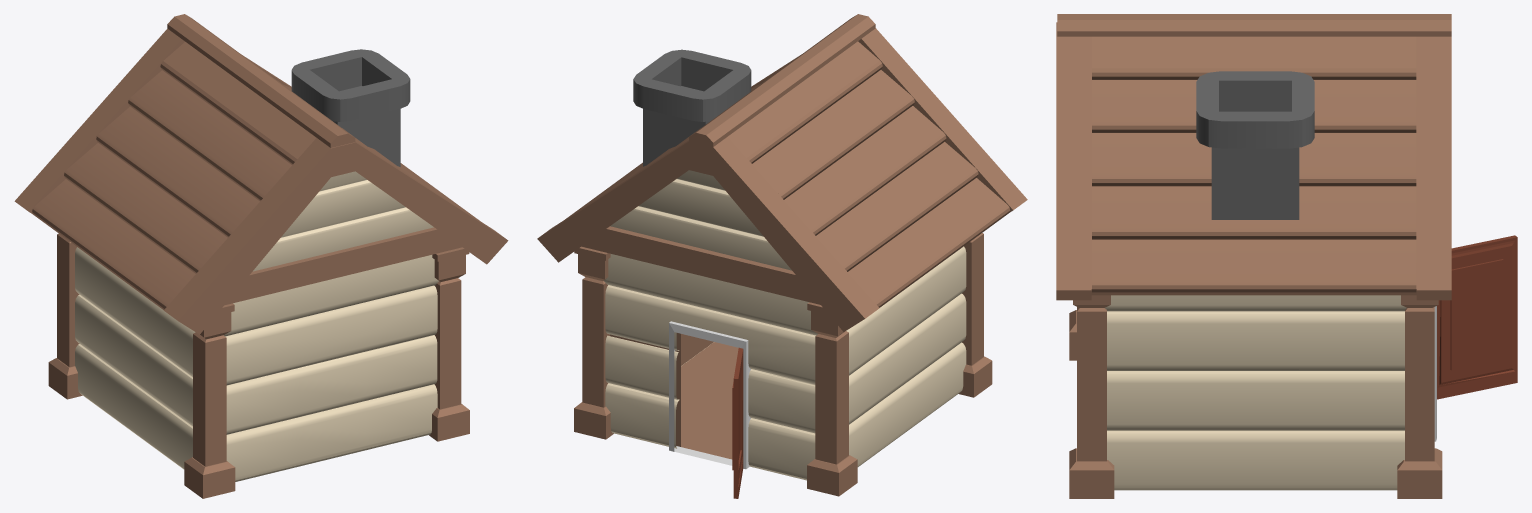
File: house_animated.glb
3 renders of one model, left to right at view 1: azimuth 30°, elevation 25°; view 2: azimuth 150°, elevation 25°; view 3: azimuth 270°, elevation 25°, orthographic. The views are drawn at different scales.
Visible parts, largest first — view 1: Roof.001, Roof, Roof.002; view 2: Roof.001, Roof, Roof.002, Roof.004, Roof.003; view 3: Roof.001, Roof, Roof.002, Roof.003.
Boxes of the visible parts, box(x1,y1,x2,y2) form: Roof.001: box(14, 14, 508, 498); Roof: box(75, 171, 438, 481); Roof.002: box(291, 49, 410, 166); Roof.001: box(537, 14, 1027, 496); Roof: box(604, 170, 966, 480); Roof.002: box(633, 49, 751, 166); Roof.004: box(669, 321, 750, 469); Roof.003: box(732, 347, 743, 498); Roof.001: box(1056, 14, 1451, 498); Roof: box(1105, 295, 1406, 490); Roof.002: box(1196, 71, 1314, 219); Roof.003: box(1437, 235, 1517, 399).
Size of the model in its own units: 7 by 6.78 by 7.02.
